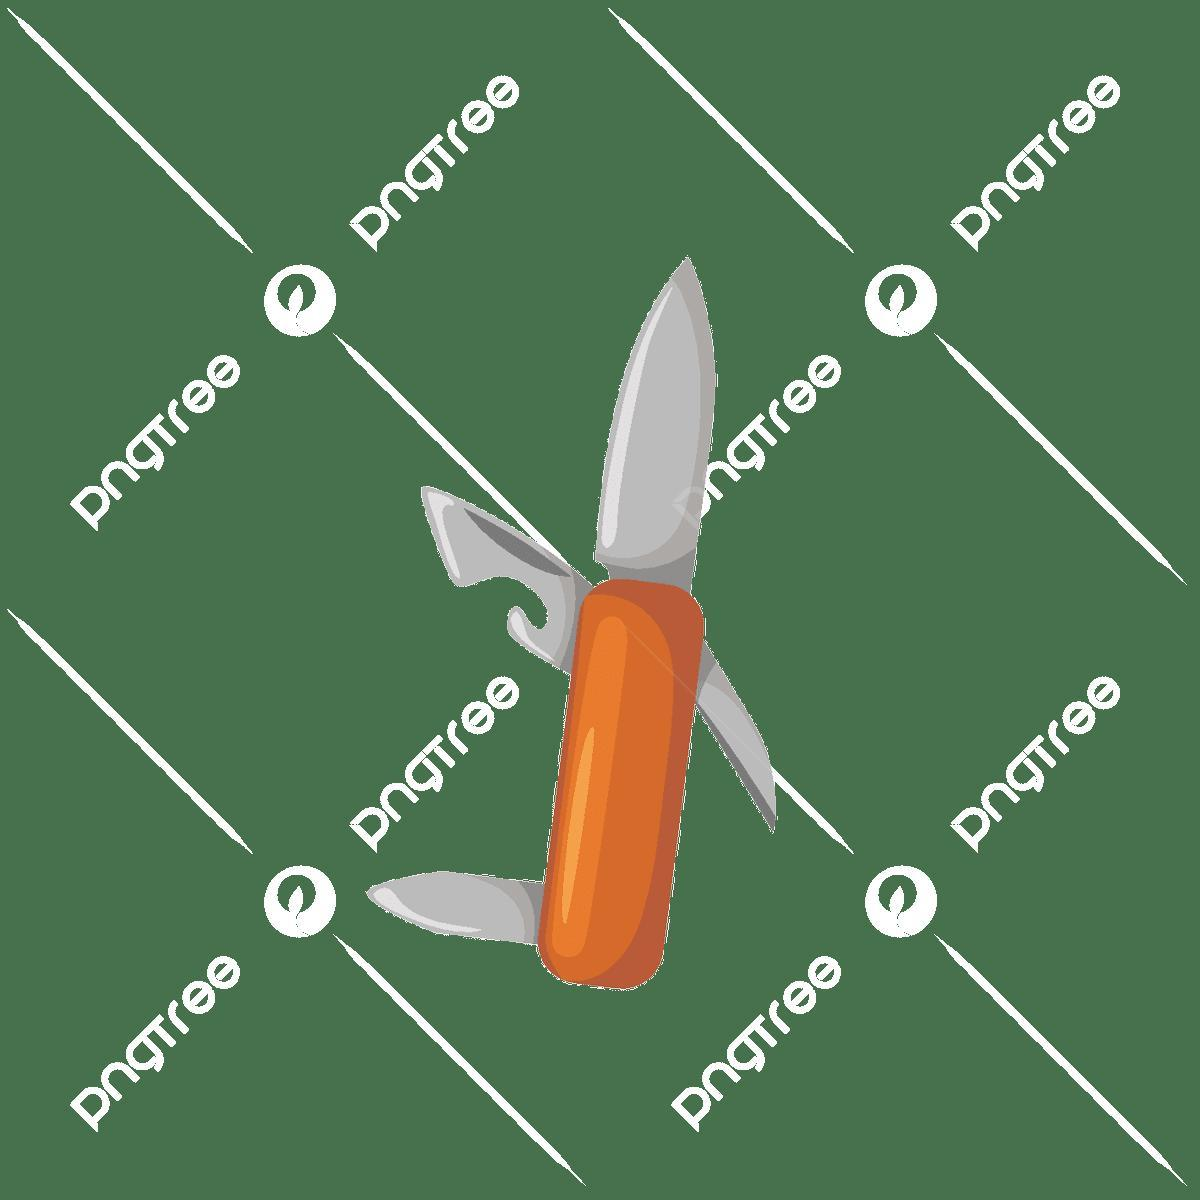faca: (538, 260, 715, 987), (421, 487, 591, 671), (699, 645, 775, 826), (367, 871, 541, 944)
